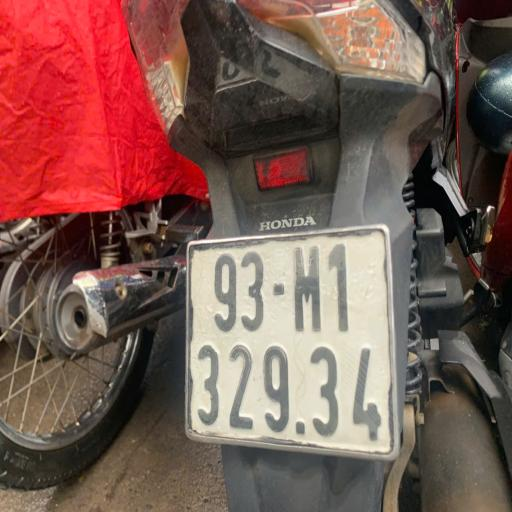1: (323, 228, 365, 340)
2: (223, 338, 260, 438)
3: (297, 338, 347, 444), (183, 333, 232, 428), (238, 250, 270, 341)
4: (342, 341, 386, 451)
9: (254, 344, 294, 440), (211, 247, 239, 341)
M: (286, 236, 328, 346)
